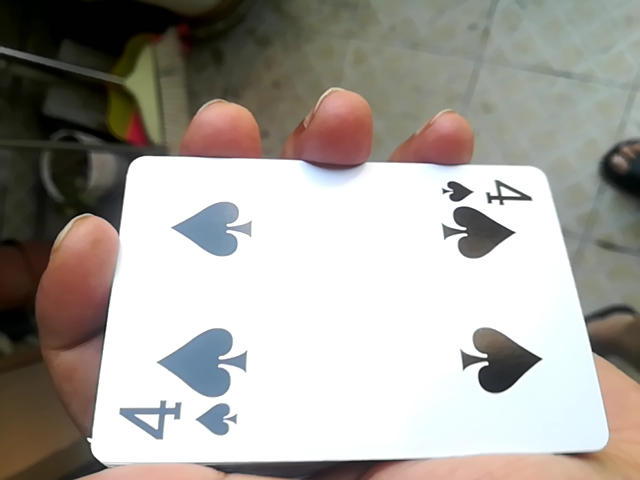ht 4: (83, 146, 610, 473)
